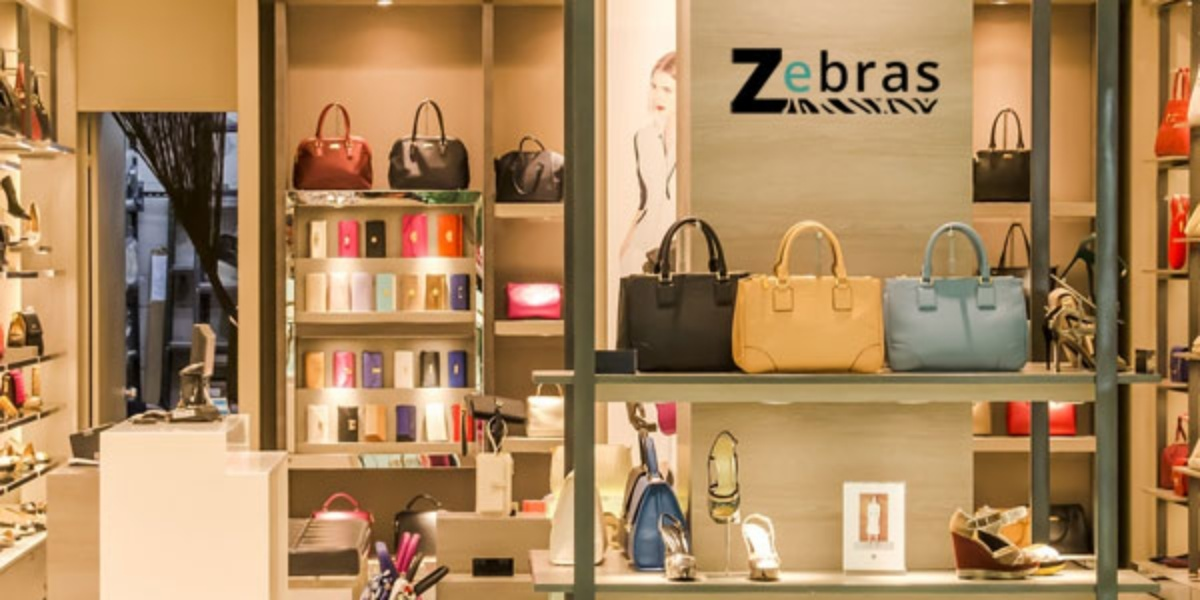text: (737, 45, 752, 117), (753, 45, 768, 117), (769, 45, 784, 117), (785, 45, 800, 117), (801, 45, 816, 117), (817, 45, 832, 117), (833, 45, 848, 117), (849, 45, 864, 117), (865, 45, 880, 117), (881, 45, 896, 117), (897, 45, 912, 117), (913, 45, 928, 117), (929, 45, 941, 117), (730, 45, 736, 117)
